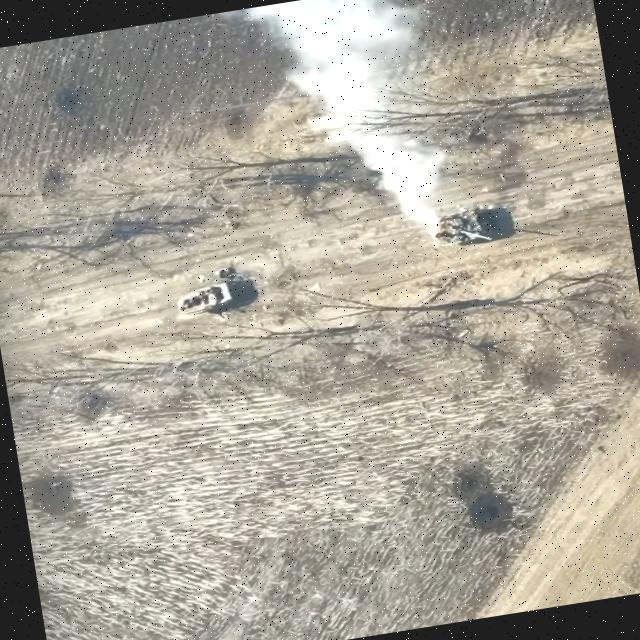Destroyed: (170, 262, 258, 322)
MBT: (423, 205, 510, 253)
